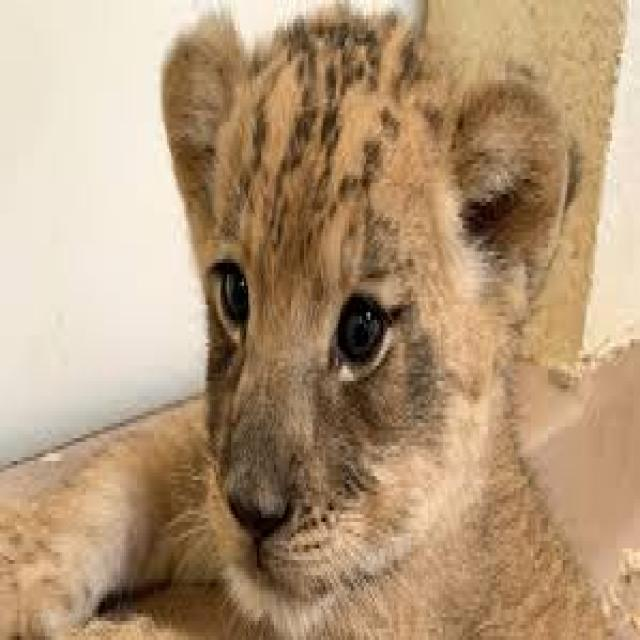Lion: (0, 18, 614, 636)
